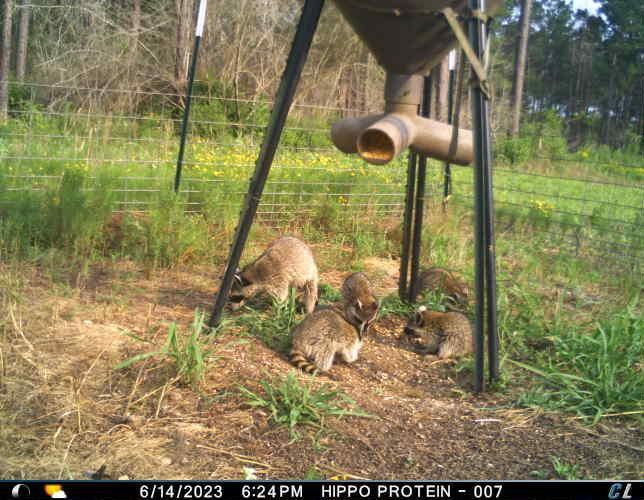Raccoon: (229, 234, 325, 319), (400, 305, 481, 392), (286, 305, 366, 381), (337, 270, 385, 328), (410, 264, 470, 308)
